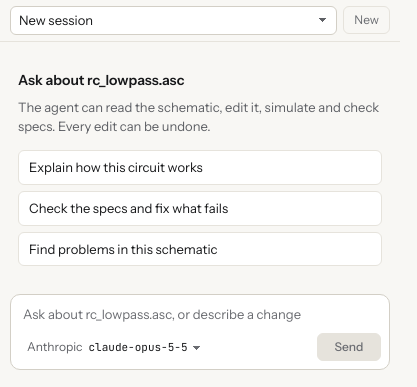
Scenario: ChatPanel › shows a calm error with a retry when the turn fails
Type "Please fail with an error" into the text box named "Message" at (200, 315), box [19,303,381,327]
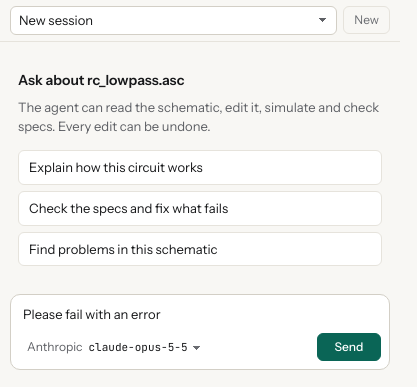
Click the button "Send" at (349, 347), box [317,333,381,361]
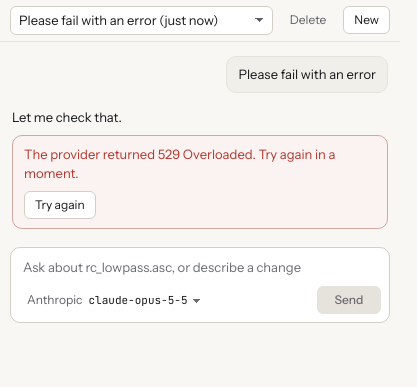
Expected: the message shows "529 Overloaded", [24,146,335,181]
Expected: the button "Try again" is shown, [24,190,96,218]
